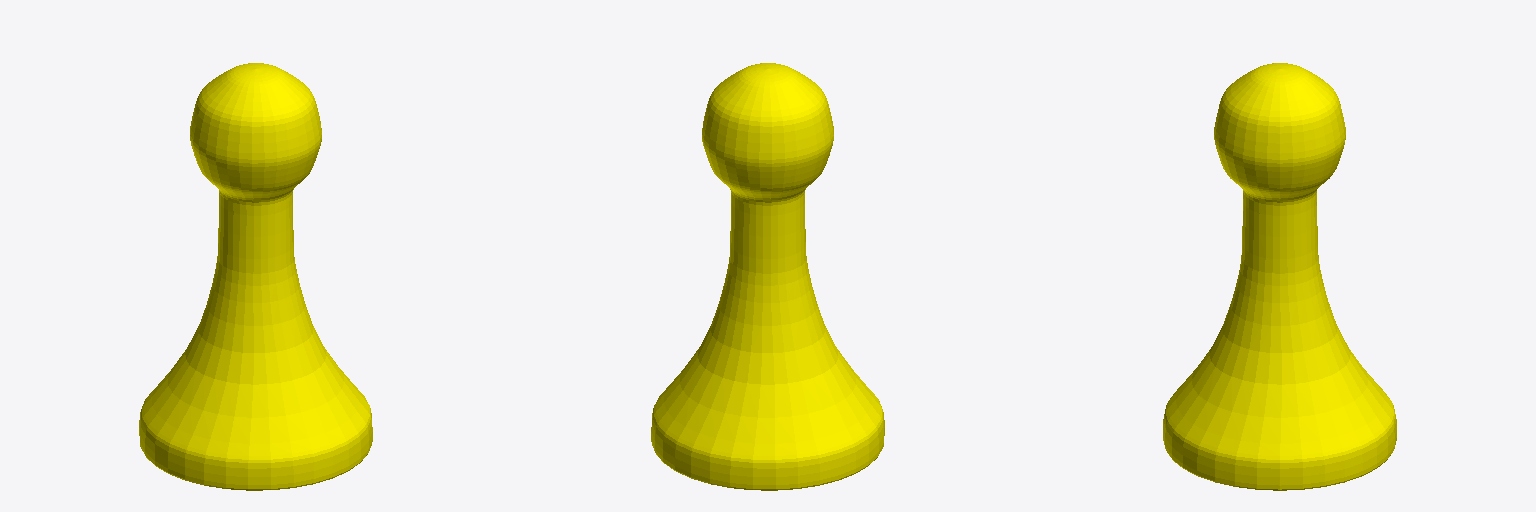
The model's file is yellow_figure.obj.
The picture shows the model from 3 angles: view 1: azimuth 30°, elevation 25°; view 2: azimuth 150°, elevation 25°; view 3: azimuth 270°, elevation 25°; orthographic projection.
Parts seen in each view (by area): view 1: Cube; view 2: Cube; view 3: Cube.
Boxes of the visible parts, box(x1,y1,x2,y2) form: Cube: box(139, 63, 372, 490); Cube: box(651, 63, 884, 490); Cube: box(1163, 63, 1396, 490).
Size of the model in its own units: 2.56 by 4.51 by 2.56.